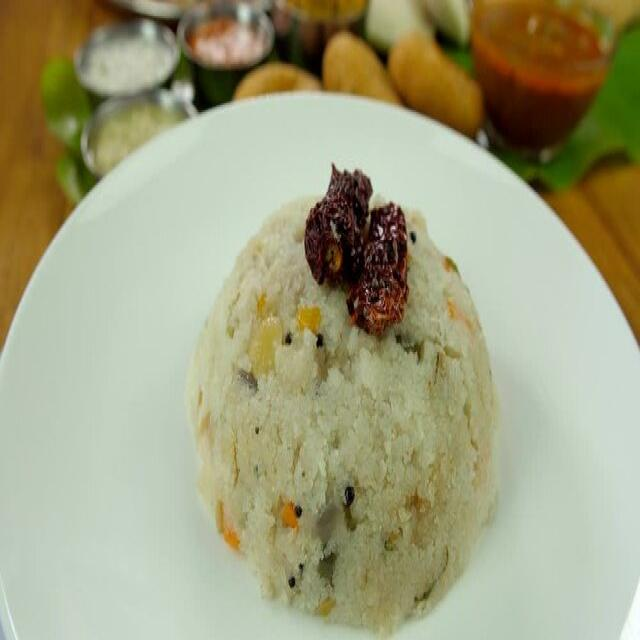UPMA: (188, 164, 497, 629), (4, 178, 91, 329)
